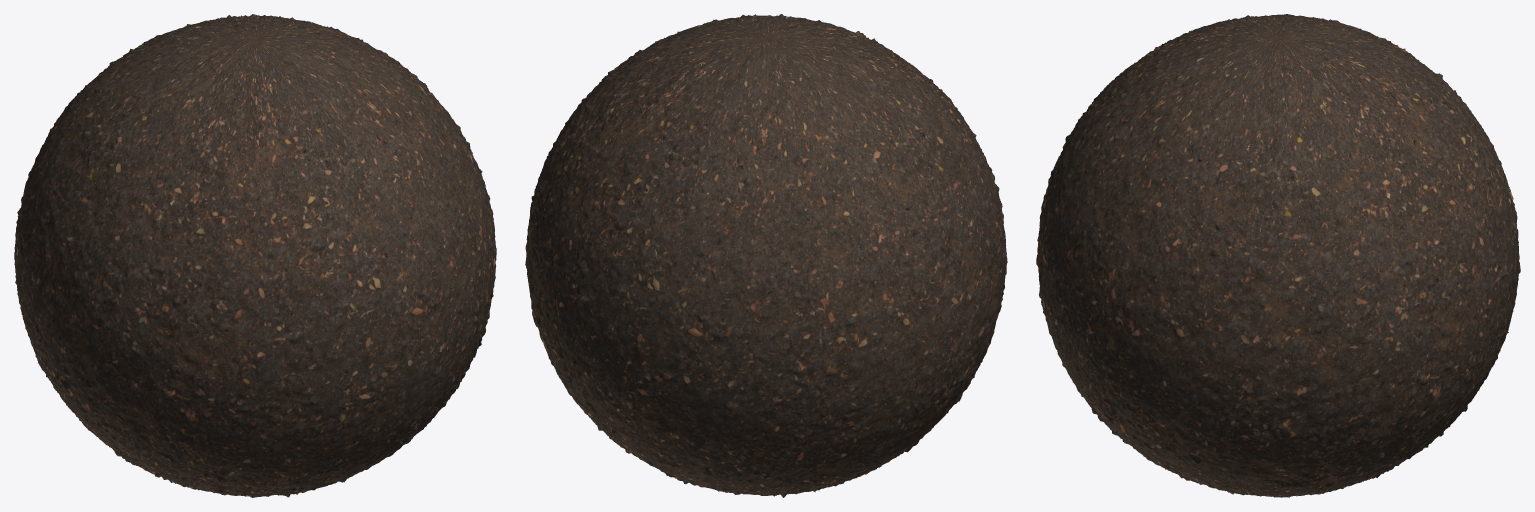
The model's file is worn_asphalt_1k.gltf.
The picture shows the model from 3 angles, left to right: view 1: azimuth 30°, elevation 25°; view 2: azimuth 150°, elevation 25°; view 3: azimuth 270°, elevation 25°; orthographic projection.
Visible parts, largest first — view 1: sphere_gltf; view 2: sphere_gltf; view 3: sphere_gltf.
Boxes of the visible parts, box(x1,y1,x2,y2) form: sphere_gltf: box(14, 14, 496, 497); sphere_gltf: box(525, 14, 1007, 497); sphere_gltf: box(1036, 14, 1520, 497).
Bounding box in the file's own units: 2 × 2 × 2.
Materials: 1 (1 with a texture image).
